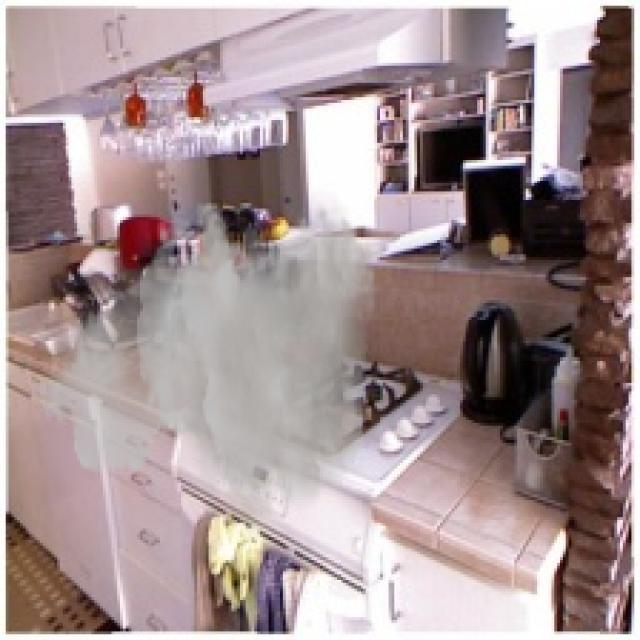smoke: (29, 200, 377, 549)
